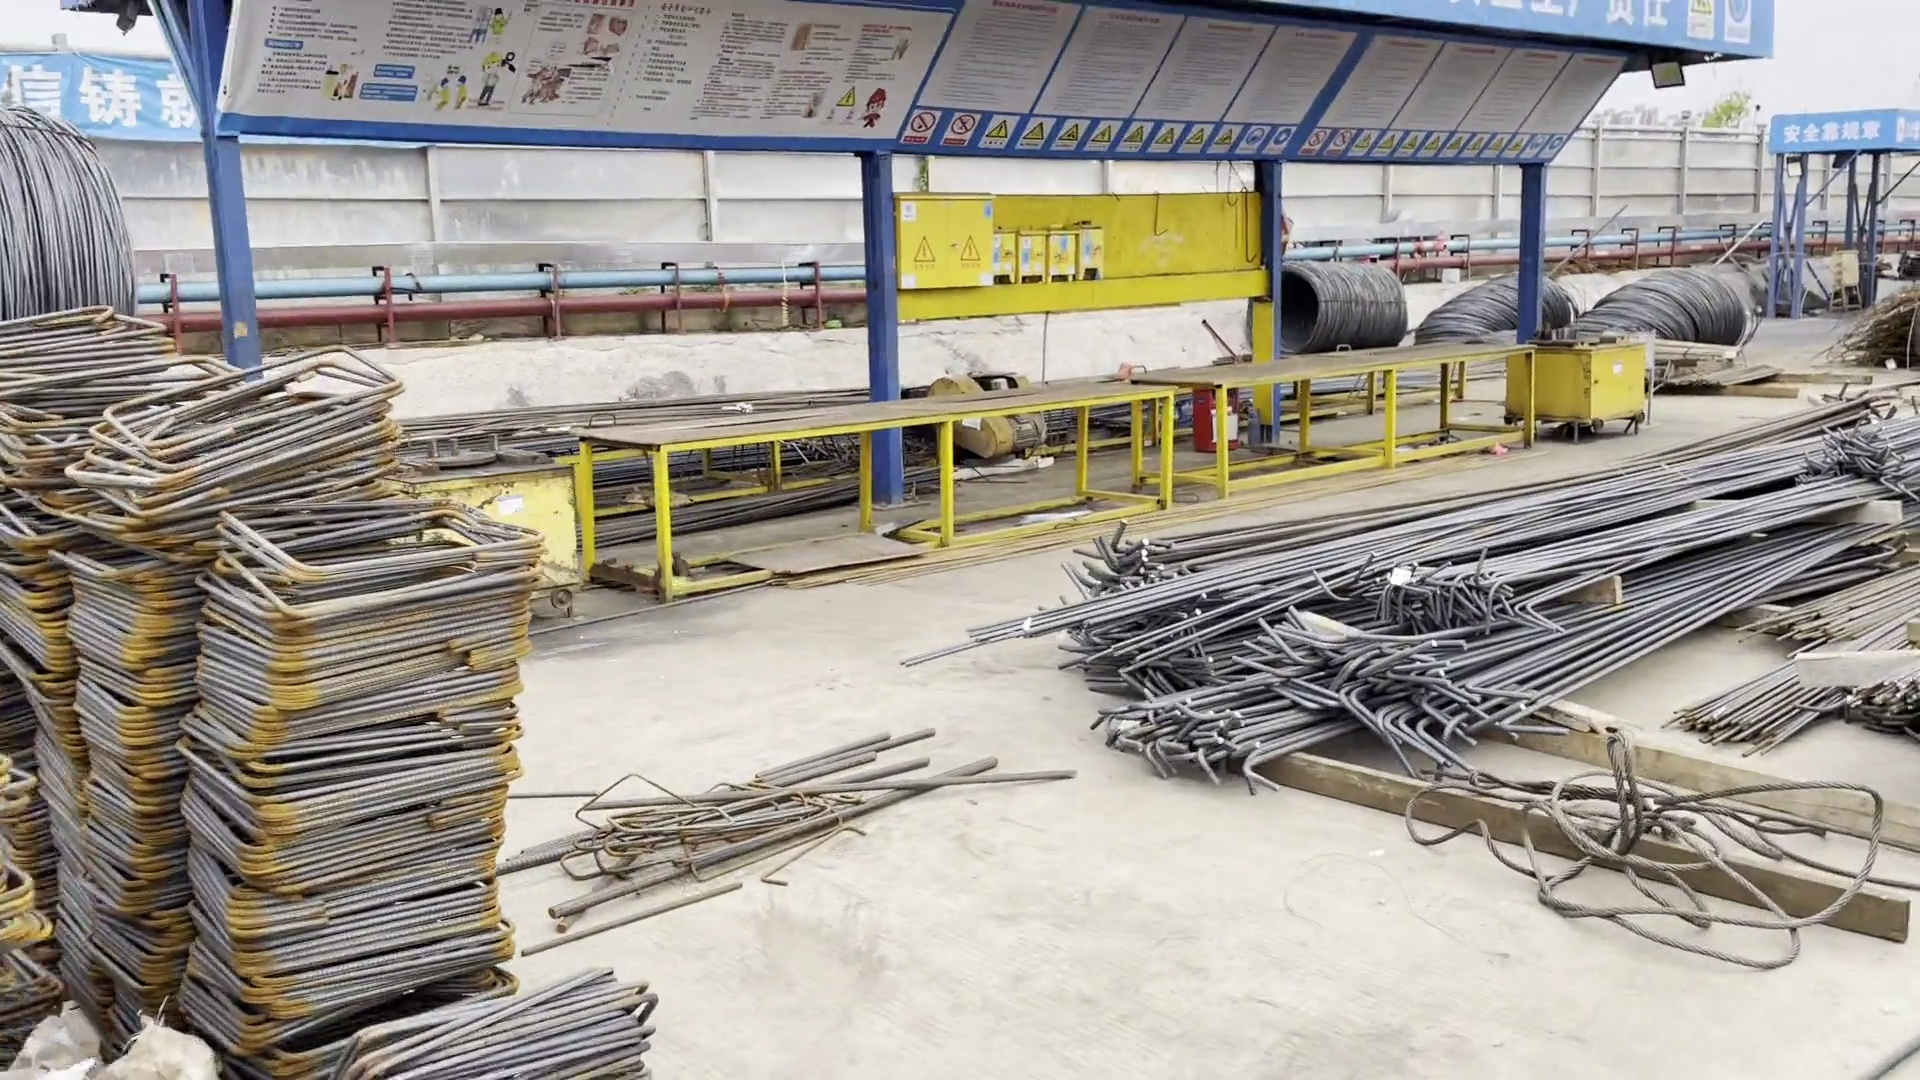ebox: (895, 186, 1000, 309)
rebar: (1056, 390, 1920, 793)
slogan: (1782, 113, 1898, 149)
